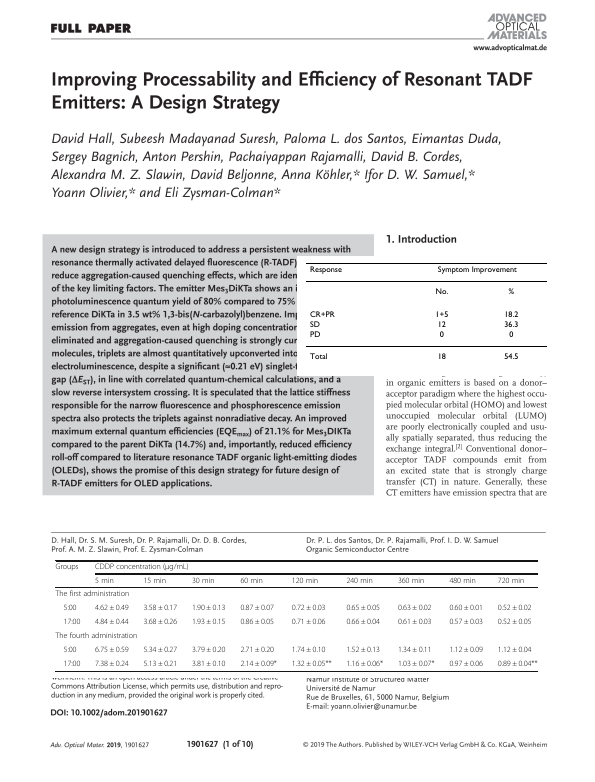borderless: (54, 559, 538, 671), (304, 261, 548, 370)
cell: (94, 563, 190, 572), (55, 631, 138, 641), (55, 589, 130, 599), (436, 266, 517, 275), (291, 659, 332, 669), (497, 659, 538, 669), (239, 659, 278, 669), (345, 659, 384, 669), (397, 659, 435, 669), (94, 603, 130, 613), (142, 603, 178, 613), (239, 603, 275, 613), (345, 603, 381, 613), (448, 603, 484, 613), (94, 617, 130, 627), (142, 617, 178, 627), (239, 617, 275, 627), (345, 617, 381, 627), (448, 617, 484, 627), (94, 645, 130, 655), (142, 645, 178, 655), (239, 645, 275, 655), (345, 645, 381, 655), (448, 645, 484, 655), (94, 659, 130, 669), (142, 659, 178, 669), (448, 659, 484, 669), (191, 603, 226, 613), (291, 603, 326, 613), (397, 603, 432, 613), (497, 603, 532, 613), (191, 617, 226, 627), (291, 617, 326, 627), (397, 617, 432, 627), (497, 617, 532, 627), (191, 645, 226, 655), (291, 645, 326, 655), (397, 645, 432, 655), (497, 645, 532, 655), (191, 659, 226, 669), (308, 266, 342, 275), (308, 310, 335, 320), (345, 576, 374, 585), (448, 576, 477, 585), (291, 576, 319, 585), (397, 576, 425, 585), (497, 576, 525, 585), (142, 576, 167, 585), (239, 576, 264, 585), (55, 563, 79, 572), (191, 576, 215, 585), (62, 617, 81, 627), (62, 659, 81, 669), (94, 576, 115, 585), (308, 353, 328, 362), (503, 310, 519, 320), (503, 320, 519, 330), (62, 603, 77, 613), (62, 645, 77, 655), (434, 310, 449, 320), (503, 353, 519, 362), (434, 288, 449, 297), (308, 320, 320, 330), (308, 331, 321, 340), (436, 320, 446, 330), (436, 353, 446, 362), (507, 288, 515, 297), (438, 331, 444, 340), (508, 331, 514, 340)
